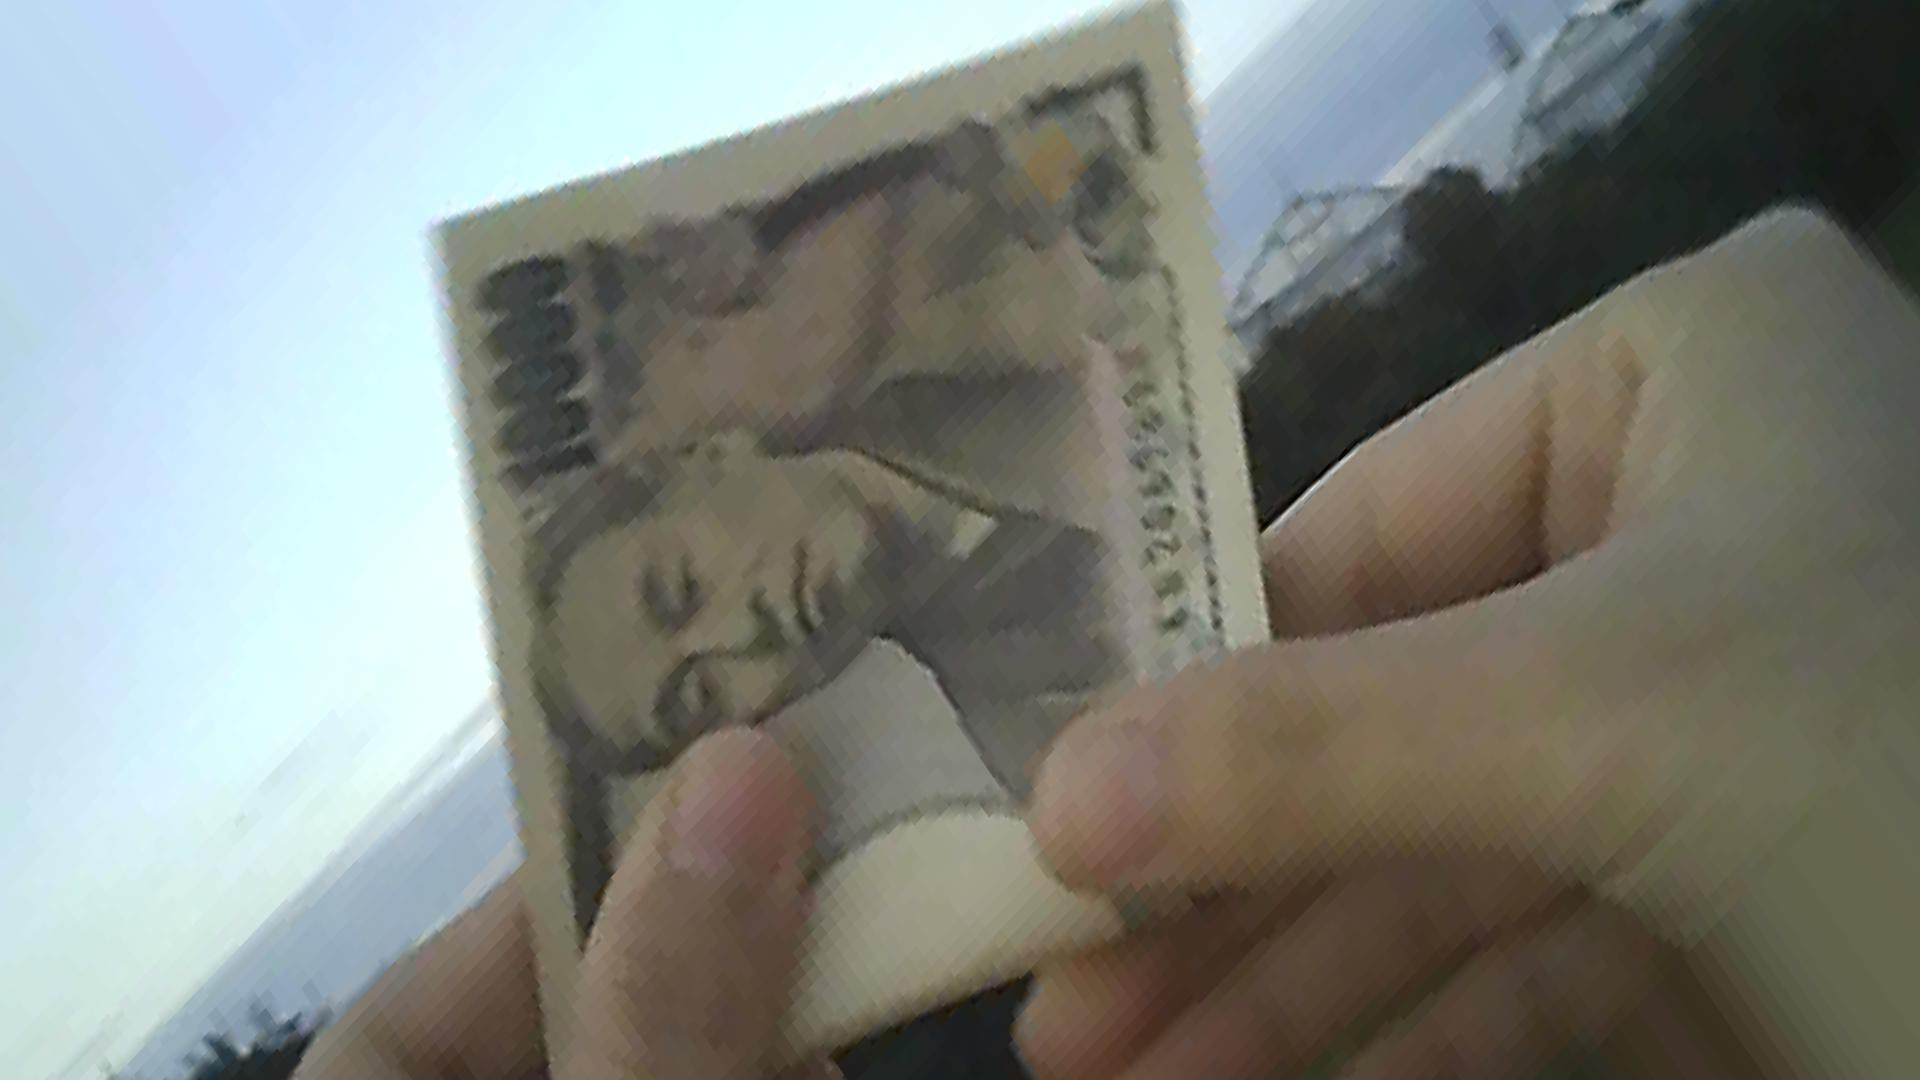10,000 Yen: (415, 15, 1305, 1079)
